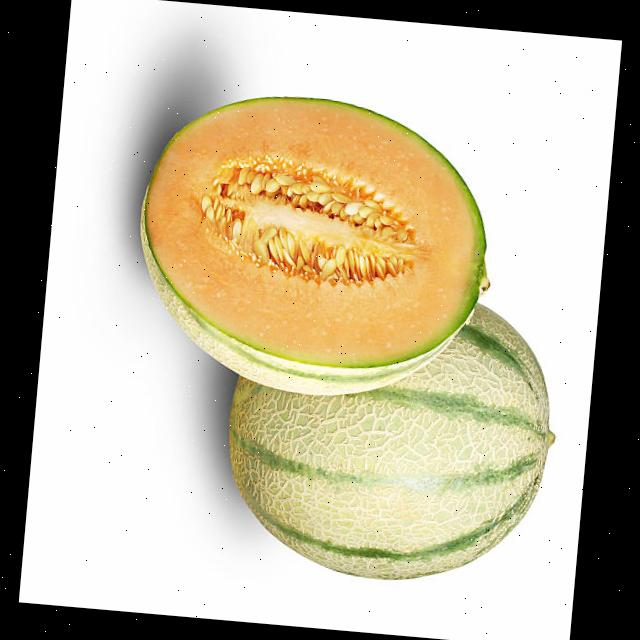Hami Melon: (125, 82, 508, 410), (217, 306, 565, 592)
